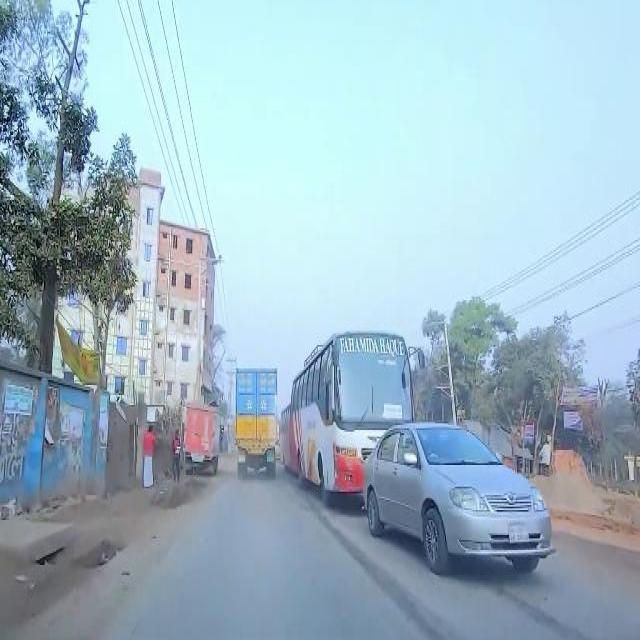vehicle: (366, 423, 553, 576), (292, 333, 364, 503), (236, 367, 279, 478), (184, 404, 222, 475)
